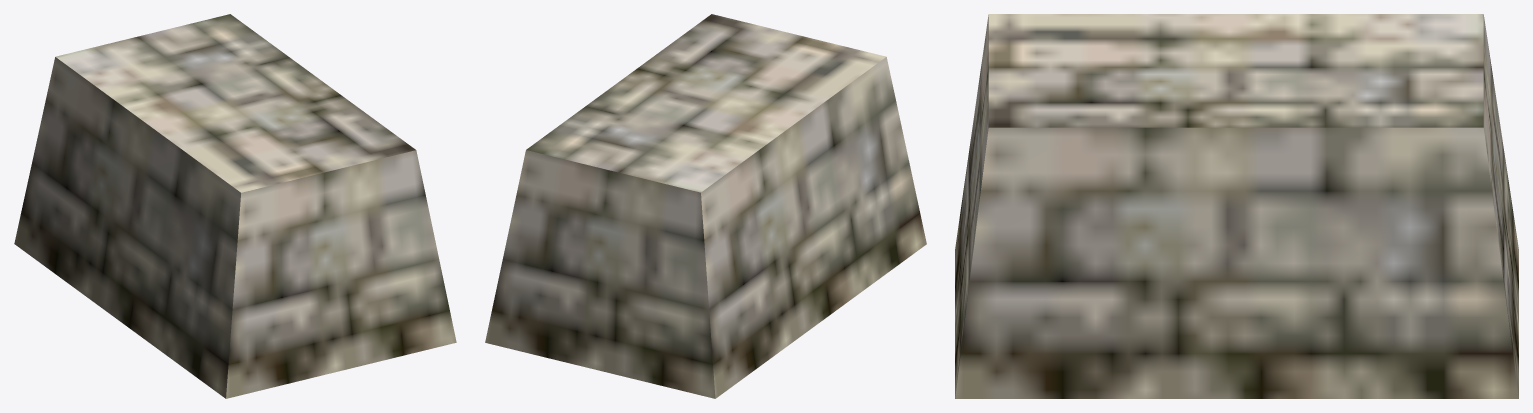
File: building_construction_g_medium_brick.glb
3 renders of one model, left to right at view 1: azimuth 30°, elevation 25°; view 2: azimuth 150°, elevation 25°; view 3: azimuth 270°, elevation 25°, orthographic. The views are drawn at different scales.
Parts seen in each view (by area): view 1: MeshRoot; view 2: MeshRoot; view 3: MeshRoot.
Boxes of the visible parts, x1,y1,x2,y2 form: MeshRoot: (14, 14, 456, 398); MeshRoot: (485, 14, 926, 398); MeshRoot: (955, 14, 1518, 398).
Size of the model in its own units: 0.8281 by 0.6523 by 1.32.
1 material, 1 textured.
